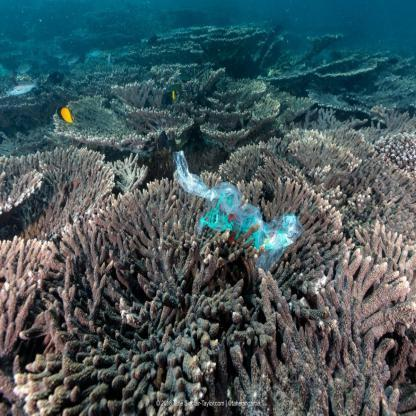Rác: (174, 149, 298, 260)
